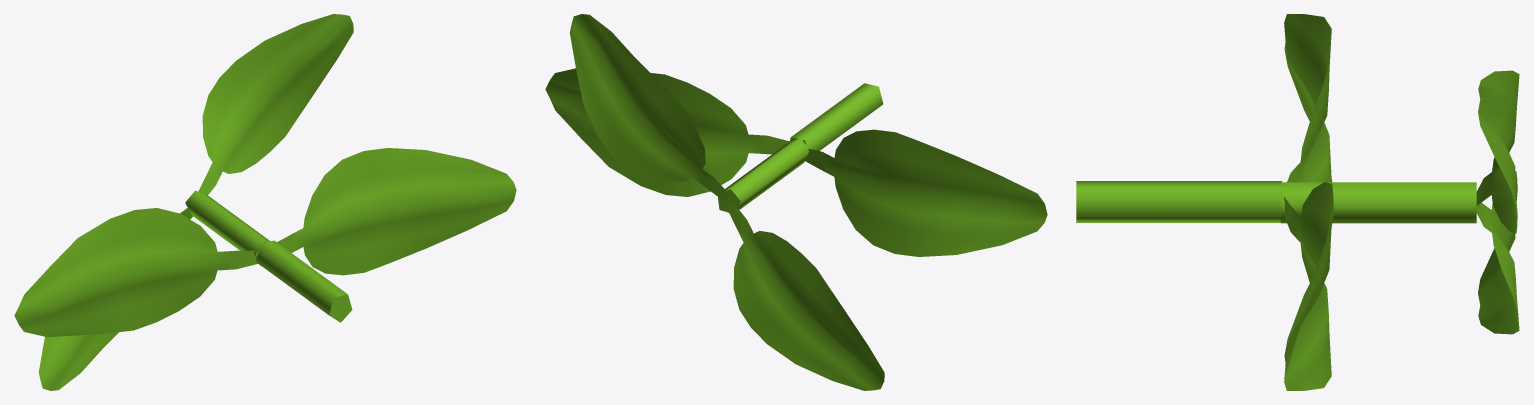
The picture shows the model from 3 angles, left to right: view 1: azimuth 30°, elevation 25°; view 2: azimuth 150°, elevation 25°; view 3: azimuth 270°, elevation 25°; orthographic projection. The views are drawn at different scales.
Visible parts, largest first — view 1: Root; view 2: Root; view 3: Root.
Boxes of the visible parts, x1,y1,x2,y2 form: Root: (14,14,516,390); Root: (545,14,1047,390); Root: (1076,14,1519,390).
Bounding box in the file's own units: 2.08 × 1.23 × 1.14.
